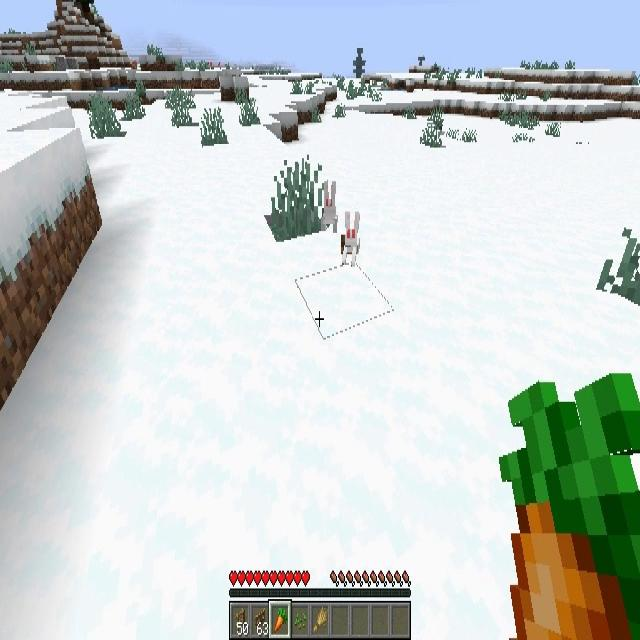rabbit: (340, 211, 362, 263), (322, 181, 338, 231)
